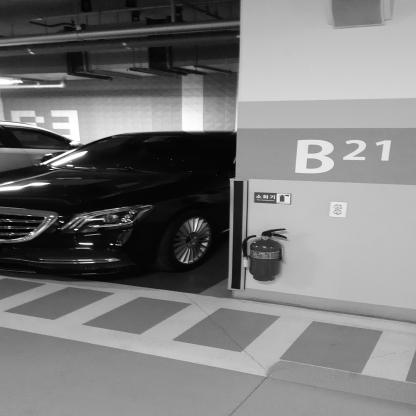FE: (242, 229, 290, 282)
